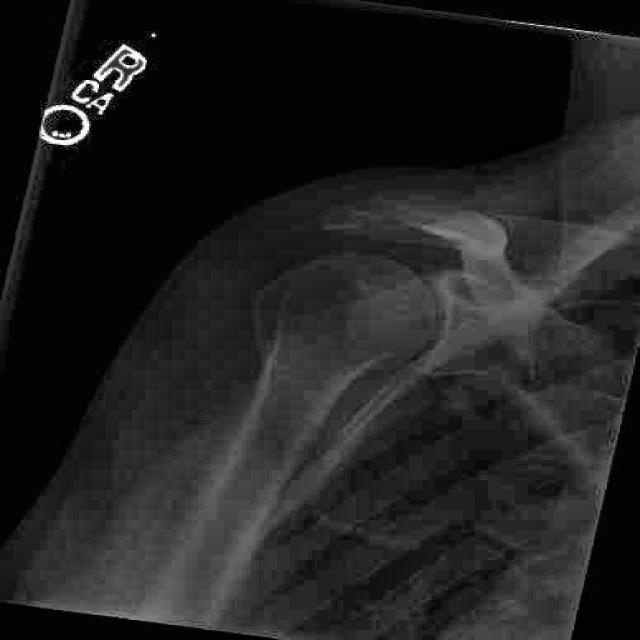shoulder fracture: (339, 199, 445, 259)
